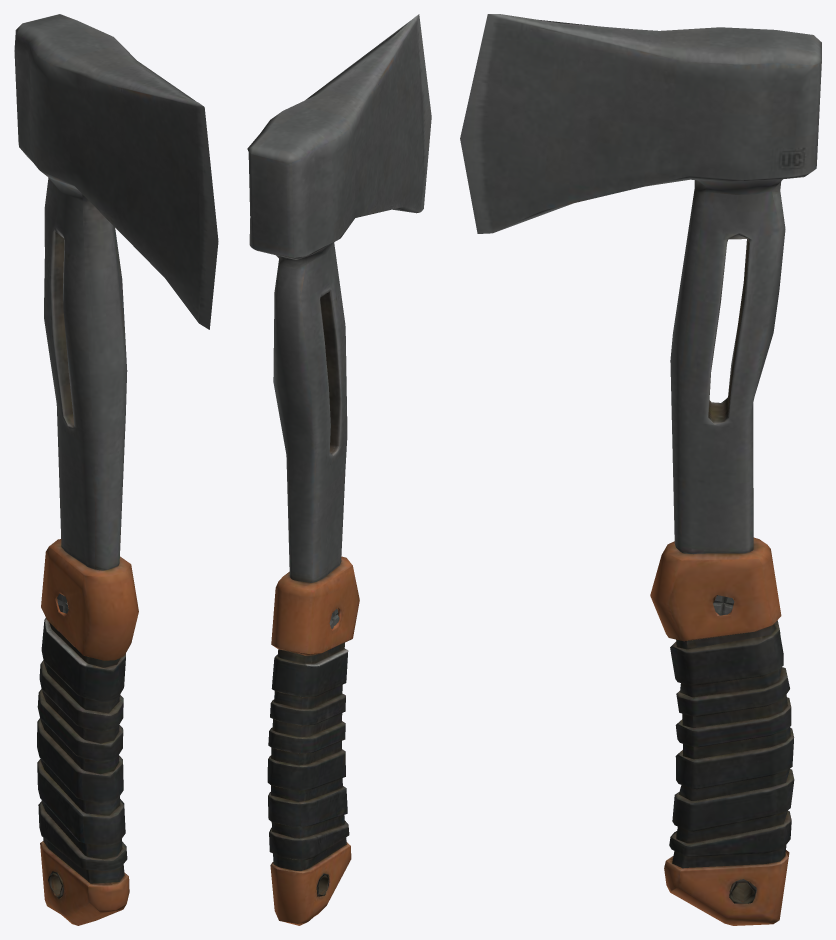
Rendered from hhatchet.glb.
The picture shows the model from 3 angles, left to right: view 1: azimuth 30°, elevation 25°; view 2: azimuth 150°, elevation 25°; view 3: azimuth 270°, elevation 25°; orthographic projection. The views are drawn at different scales.
Parts seen in each view (by area): view 1: hhatchet; view 2: hhatchet; view 3: hhatchet.
Part boxes in pixels (bbox=[...]): hhatchet: bbox=[14, 14, 218, 925]; hhatchet: bbox=[247, 14, 431, 925]; hhatchet: bbox=[460, 14, 821, 925].
Size of the model in its own units: 0.0254 by 0.2886 by 0.1043.
1 material, 1 textured.
